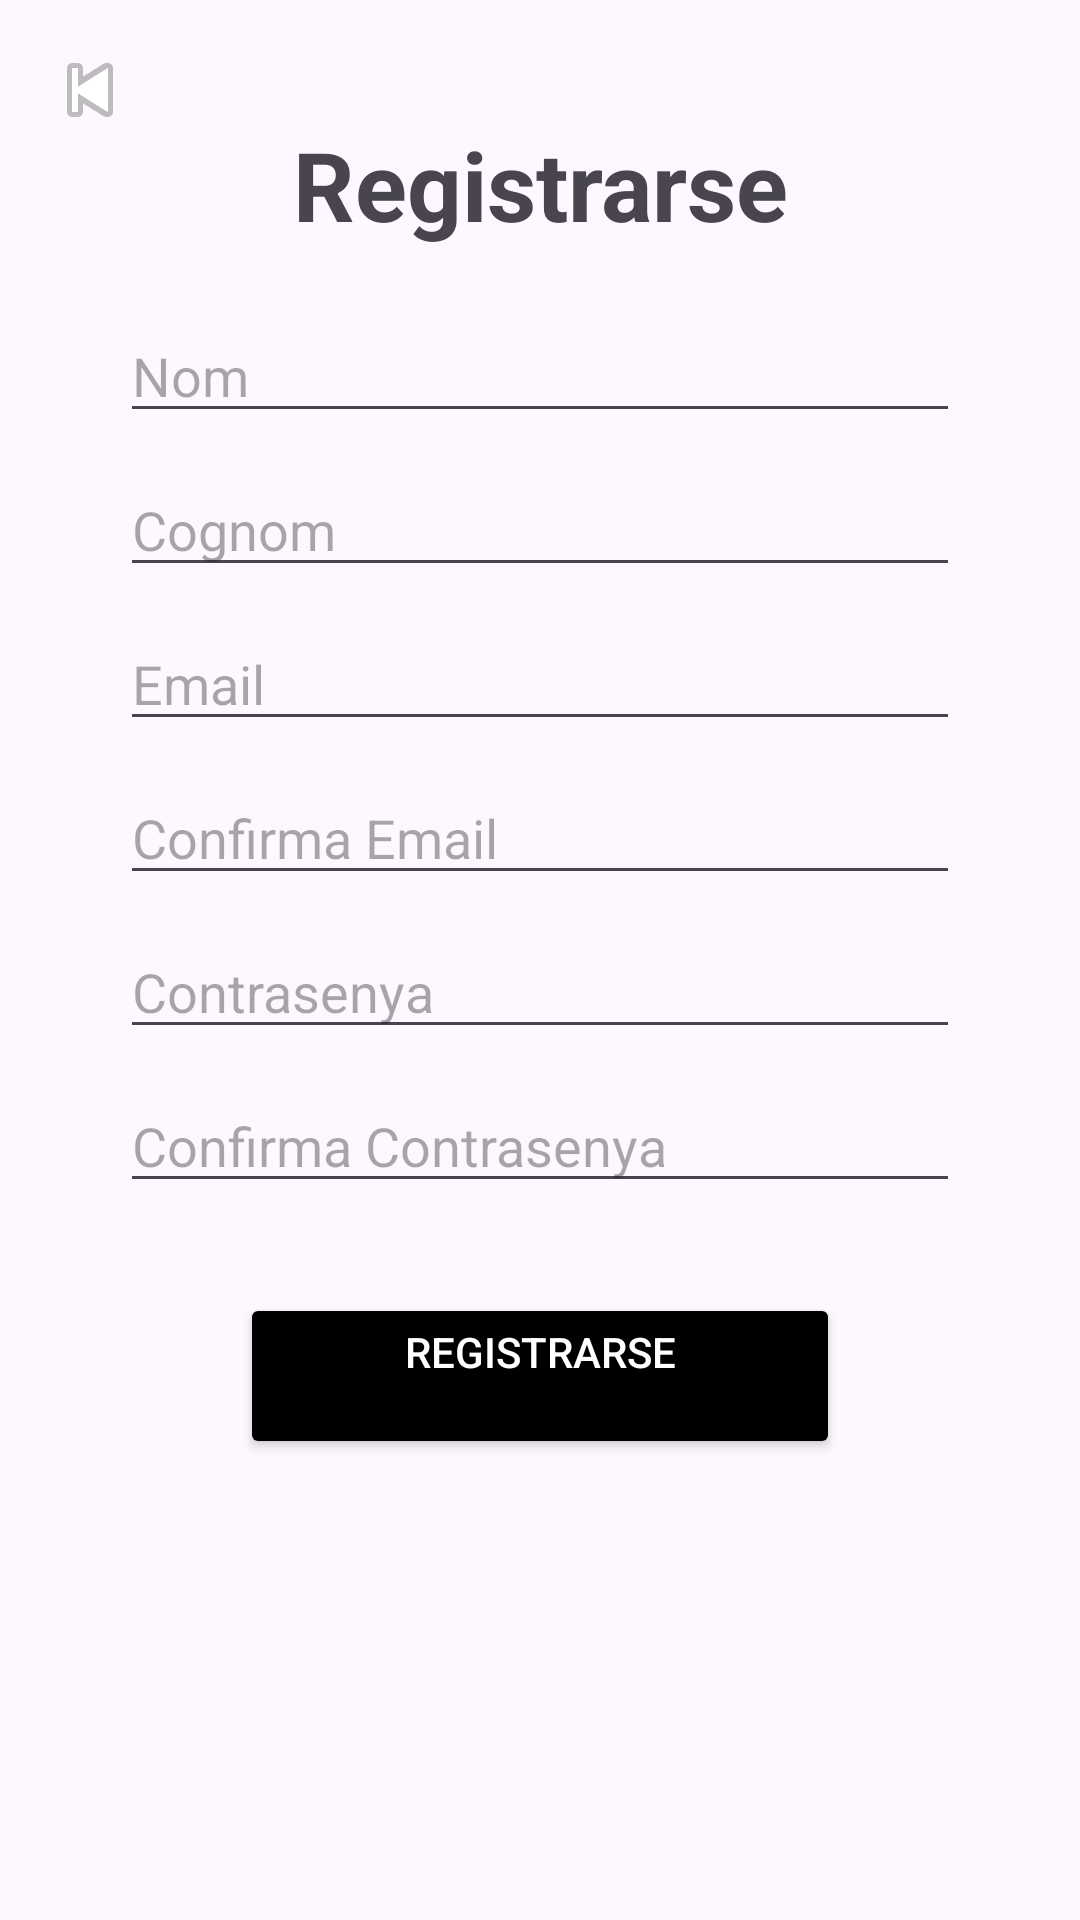

Where icons sit on this 1080×1920 app screen, as bbox(x1, y1, x2, y2):
previous: bbox(67, 63, 113, 117)
